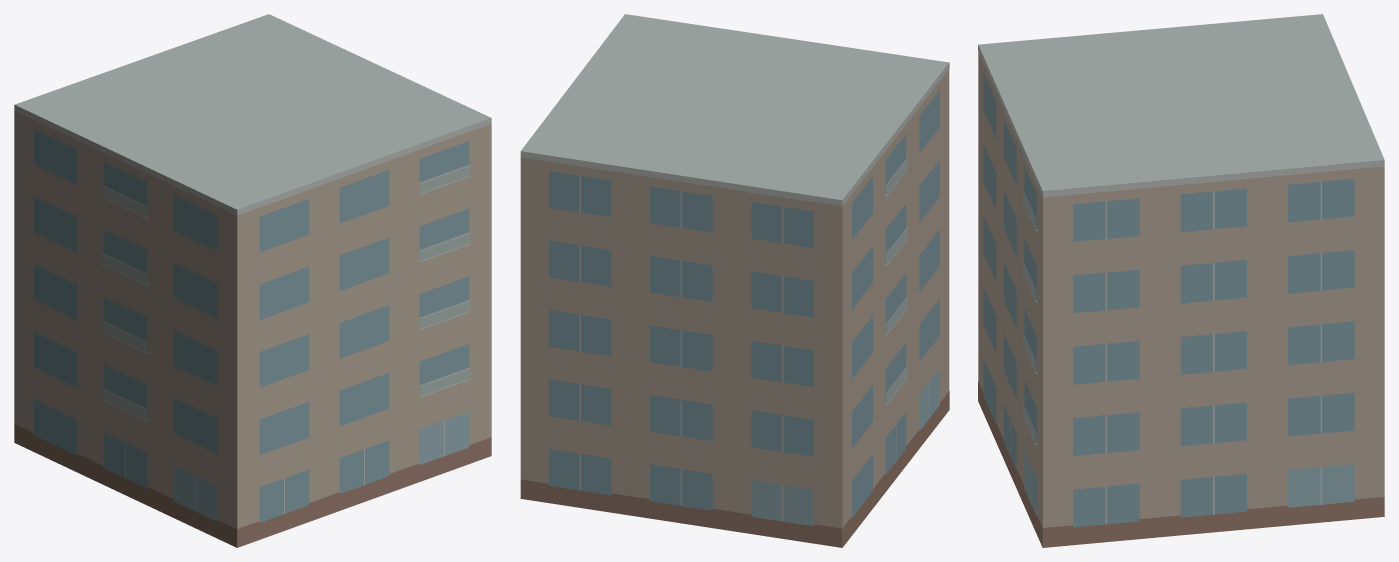
The model's file is survey-upis-32882744.glb.
3 views of the same model, side by side, from view 1: azimuth 30°, elevation 25°; view 2: azimuth 150°, elevation 25°; view 3: azimuth 270°, elevation 25° (orthographic). The views are drawn at different scales.
Visible parts, largest first — view 1: survey-upis-32882744.tmp; view 2: survey-upis-32882744.tmp; view 3: survey-upis-32882744.tmp.
Boxes of the visible parts, <box> form: survey-upis-32882744.tmp: <box>14,14,491,547</box>; survey-upis-32882744.tmp: <box>520,14,949,547</box>; survey-upis-32882744.tmp: <box>978,14,1384,547</box>.
Bounding box in the file's own units: 14.71 × 13.8 × 14.26.
